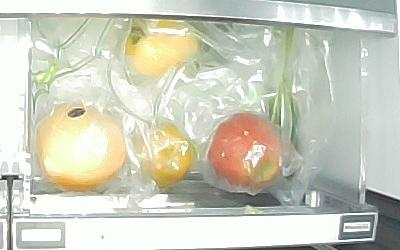apple_vinyl: (208, 110, 286, 193)
grapefruit_vinyl: (34, 100, 130, 191)
paprika_vinyl: (124, 20, 199, 78)
persimmon_vinyl: (130, 123, 194, 189)
